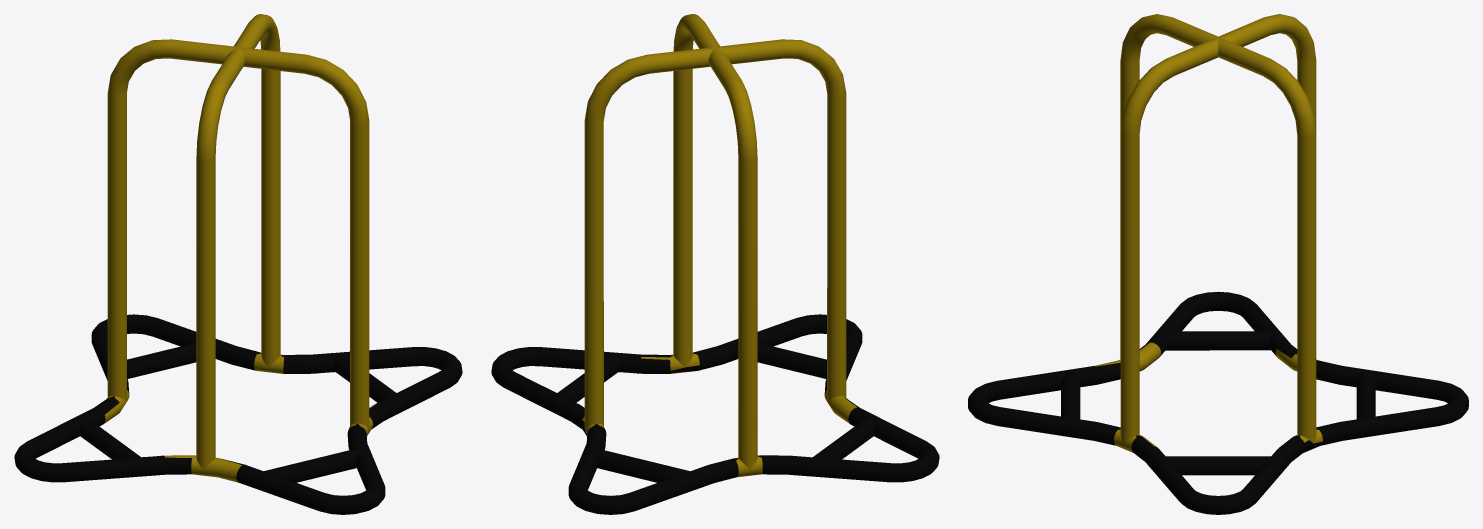
Rendered from StaticMesh6.FBX.
3 views of the same model, side by side, from view 1: azimuth 30°, elevation 25°; view 2: azimuth 150°, elevation 25°; view 3: azimuth 270°, elevation 25° (orthographic).
Parts seen in each view (by area): view 1: StaticMesh6; view 2: StaticMesh6; view 3: StaticMesh6.
Boxes of the visible parts, <box> form: StaticMesh6: <box>14,14,462,514</box>; StaticMesh6: <box>491,14,939,514</box>; StaticMesh6: <box>968,14,1468,514</box>.
Size of the model in its own units: 109 by 109 by 89.84.
